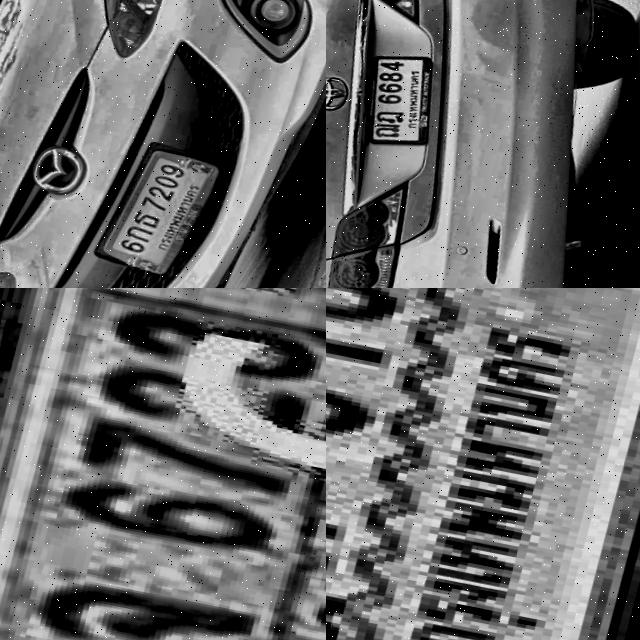license-plate: (0, 288, 326, 640), (326, 288, 640, 640), (95, 140, 232, 282), (351, 47, 451, 152)
